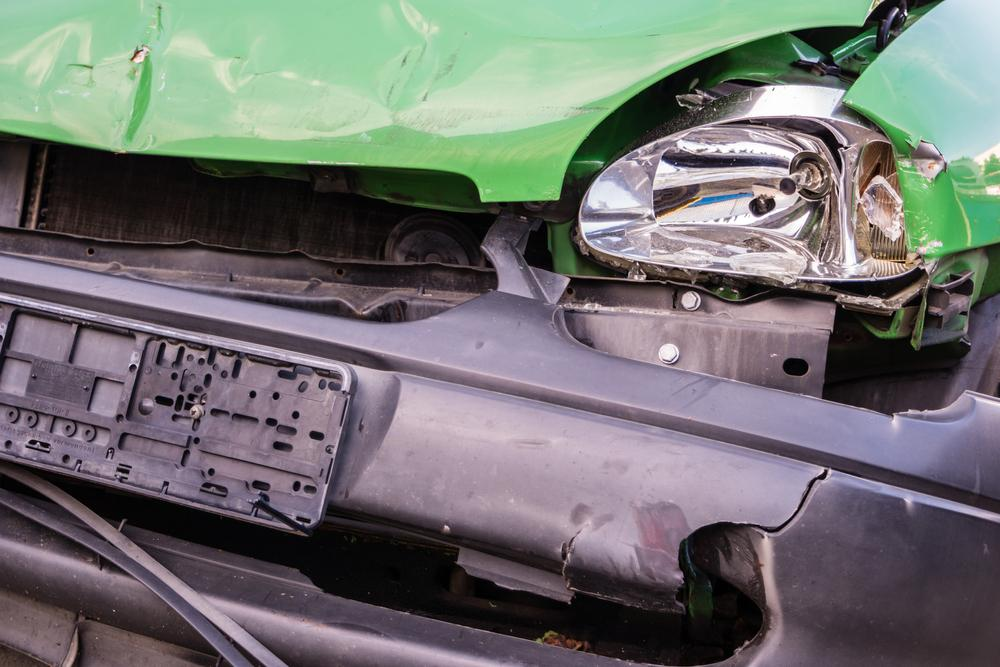crack: (675, 467, 831, 609)
dent: (883, 120, 947, 248)
lamp broken: (581, 111, 925, 279)
